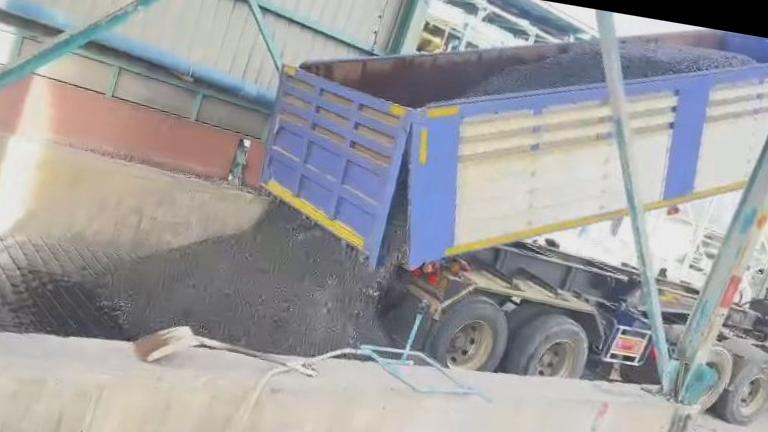gravel: (105, 204, 397, 355), (464, 40, 603, 97), (619, 42, 754, 80), (377, 164, 407, 270)
